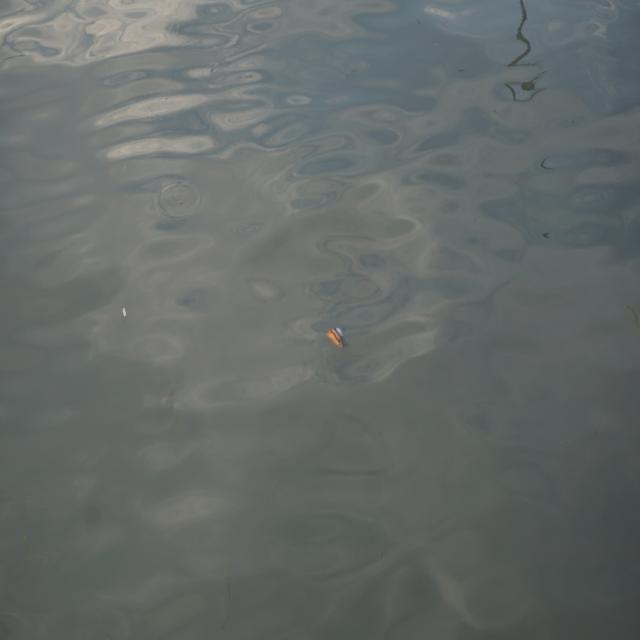Bungkus Makanan: (326, 324, 350, 352)
